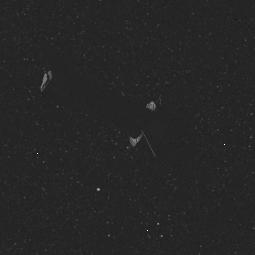xmm_newton: (35, 62, 178, 162)
